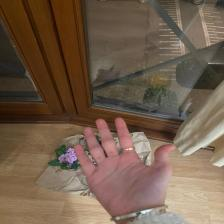five: (72, 117, 174, 210)
